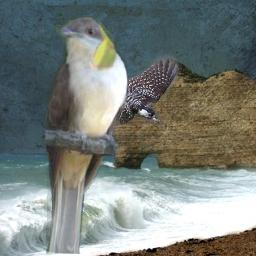Cuckoo: (41, 16, 128, 254)
Woodpecker: (96, 55, 182, 127)
